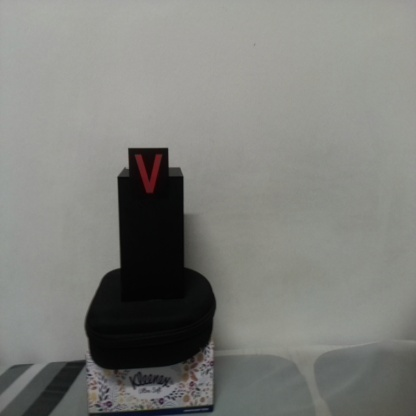id_11: (129, 148, 168, 202)
